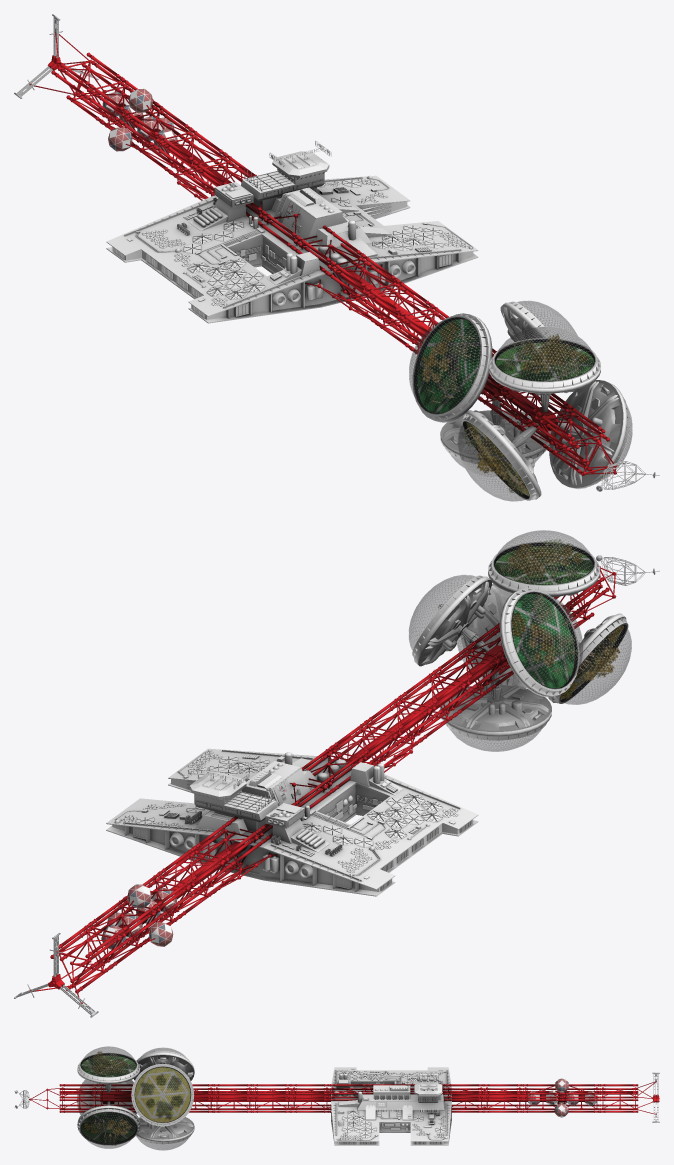
Rendered from valleyforge.glb.
The picture shows the model from 3 angles, top to bottom: view 1: azimuth 30°, elevation 25°; view 2: azimuth 150°, elevation 25°; view 3: azimuth 270°, elevation 25°; orthographic projection. The views are drawn at different scales.
Visible parts, largest first — view 1: Object_35, Object_2, Object_28, Object_6, Object_7, Object_23, Object_10, Object_17, Object_24, Object_25, Object_5, Object_26 (+1 smaller); view 2: Object_35, Object_2, Object_28, Object_6, Object_7, Object_23, Object_17, Object_10, Object_24, Object_25, Object_5, Object_26 (+1 smaller); view 3: Object_35, Object_7, Object_28, Object_2, Object_6, Object_23, Object_10, Object_17, Object_25, Object_24, Object_5, Object_27 (+1 smaller).
Part boxes in pixels (<box>): Object_35: <box>29,32,617,475</box>; Object_2: <box>106,175,478,323</box>; Object_28: <box>412,301,629,500</box>; Object_6: <box>409,300,632,501</box>; Object_7: <box>102,88,594,495</box>; Object_23: <box>124,177,461,318</box>; Object_10: <box>142,178,469,306</box>; Object_17: <box>409,301,631,500</box>; Object_24: <box>213,151,329,275</box>; Object_25: <box>127,154,472,301</box>; Object_5: <box>14,14,659,491</box>; Object_26: <box>177,179,323,235</box>; Object_35: <box>29,566,616,1003</box>; Object_2: <box>106,748,478,896</box>; Object_28: <box>412,541,628,740</box>; Object_6: <box>408,530,631,751</box>; Object_7: <box>101,546,622,949</box>; Object_23: <box>123,750,460,891</box>; Object_17: <box>409,530,631,751</box>; Object_10: <box>121,751,457,872</box>; Object_24: <box>189,762,374,843</box>; Object_25: <box>114,749,455,879</box>; Object_5: <box>14,555,659,1017</box>; Object_26: <box>185,779,342,856</box>; Object_35: <box>29,1081,659,1114</box>; Object_7: <box>81,1055,597,1142</box>; Object_28: <box>77,1051,194,1145</box>; Object_2: <box>331,1067,451,1145</box>; Object_6: <box>81,1046,190,1150</box>; Object_23: <box>331,1070,451,1135</box>; Object_10: <box>337,1069,445,1139</box>; Object_17: <box>82,1047,187,1149</box>; Object_25: <box>333,1068,447,1140</box>; Object_24: <box>336,1073,442,1102</box>; Object_5: <box>14,1071,659,1140</box>; Object_27: <box>340,1082,441,1144</box>.
Bounding box in the file's own units: 18.03 × 11.04 × 66.59.
18 materials, 18 textured.
